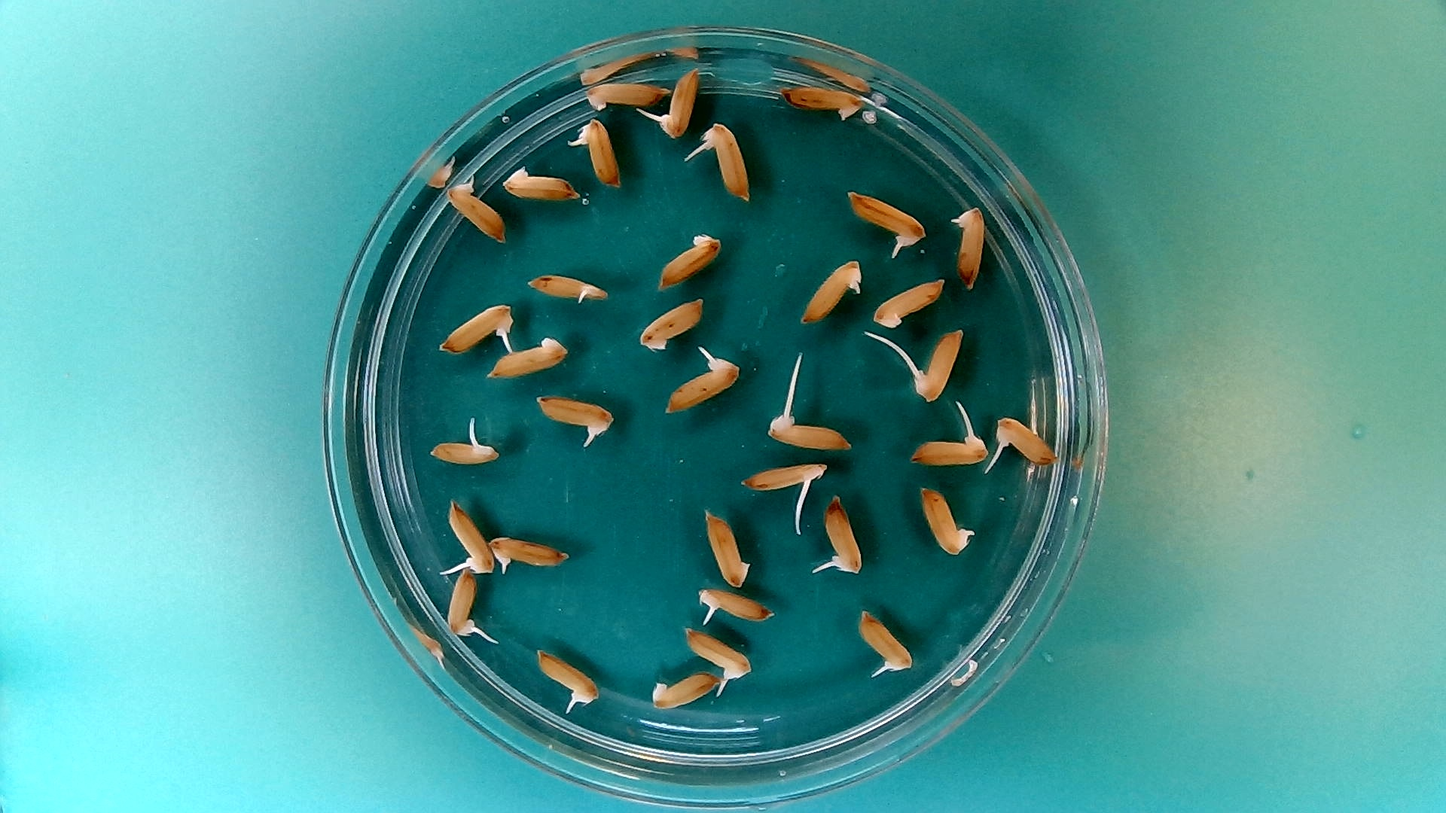no: (653, 227, 726, 290), (700, 504, 752, 591), (636, 292, 709, 352), (870, 275, 947, 327), (484, 336, 570, 379), (774, 81, 865, 120), (581, 77, 669, 111), (505, 165, 581, 204), (649, 671, 720, 711)
yes: (847, 184, 928, 246), (798, 253, 866, 326), (917, 482, 976, 559), (664, 354, 735, 416), (438, 304, 514, 357), (913, 326, 965, 403), (853, 609, 914, 674), (705, 118, 752, 202), (448, 180, 508, 245), (539, 650, 601, 711), (532, 394, 614, 440), (821, 492, 865, 577), (901, 427, 988, 467), (950, 202, 989, 291), (680, 630, 752, 678), (693, 584, 776, 624), (447, 504, 496, 571), (995, 412, 1058, 464), (743, 460, 831, 496), (577, 120, 621, 192), (487, 536, 569, 574), (766, 414, 850, 451), (523, 273, 609, 307), (657, 69, 697, 142), (444, 567, 480, 638), (428, 434, 499, 466)
